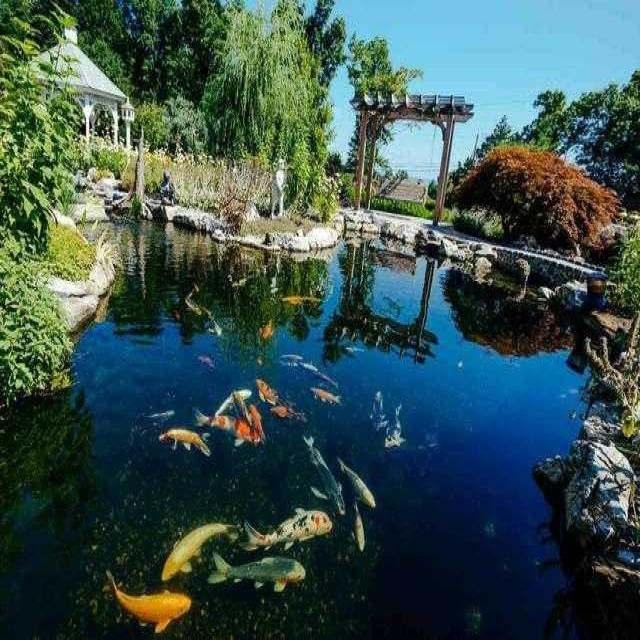Ponds: (1, 193, 640, 636)
